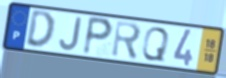4: (172, 27, 194, 69)
D: (24, 10, 56, 51)
J: (58, 16, 84, 52)
P: (80, 14, 115, 57)
Q: (140, 26, 171, 63)
R: (110, 19, 143, 62)
